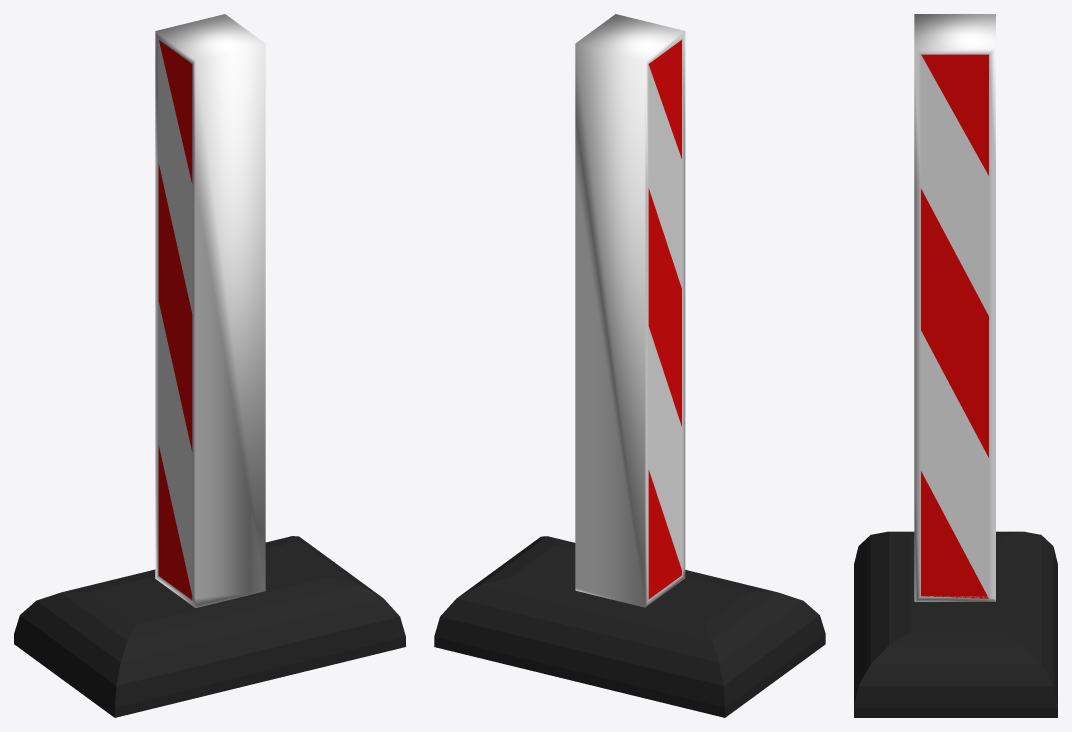
Rendered from balise.fbx.
3 views of the same model, side by side, from view 1: azimuth 30°, elevation 25°; view 2: azimuth 150°, elevation 25°; view 3: azimuth 270°, elevation 25° (orthographic).
Parts seen in each view (by area): view 1: Cube; view 2: Cube; view 3: Cube.
Boxes of the visible parts, left/top/right/bottom form: Cube: left=14, top=14, right=405, bottom=717; Cube: left=434, top=14, right=825, bottom=717; Cube: left=854, top=14, right=1057, bottom=717.
Bounding box in the file's own units: 25 × 49.95 × 15.
